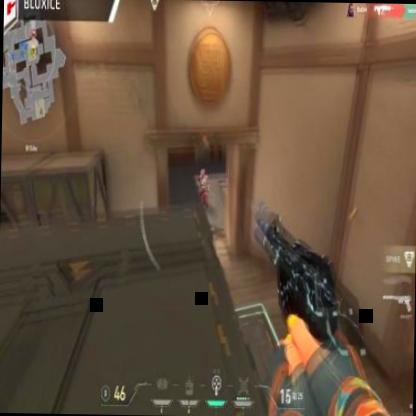enemy: (198, 168, 209, 218)
enemy_head: (199, 168, 205, 178)
